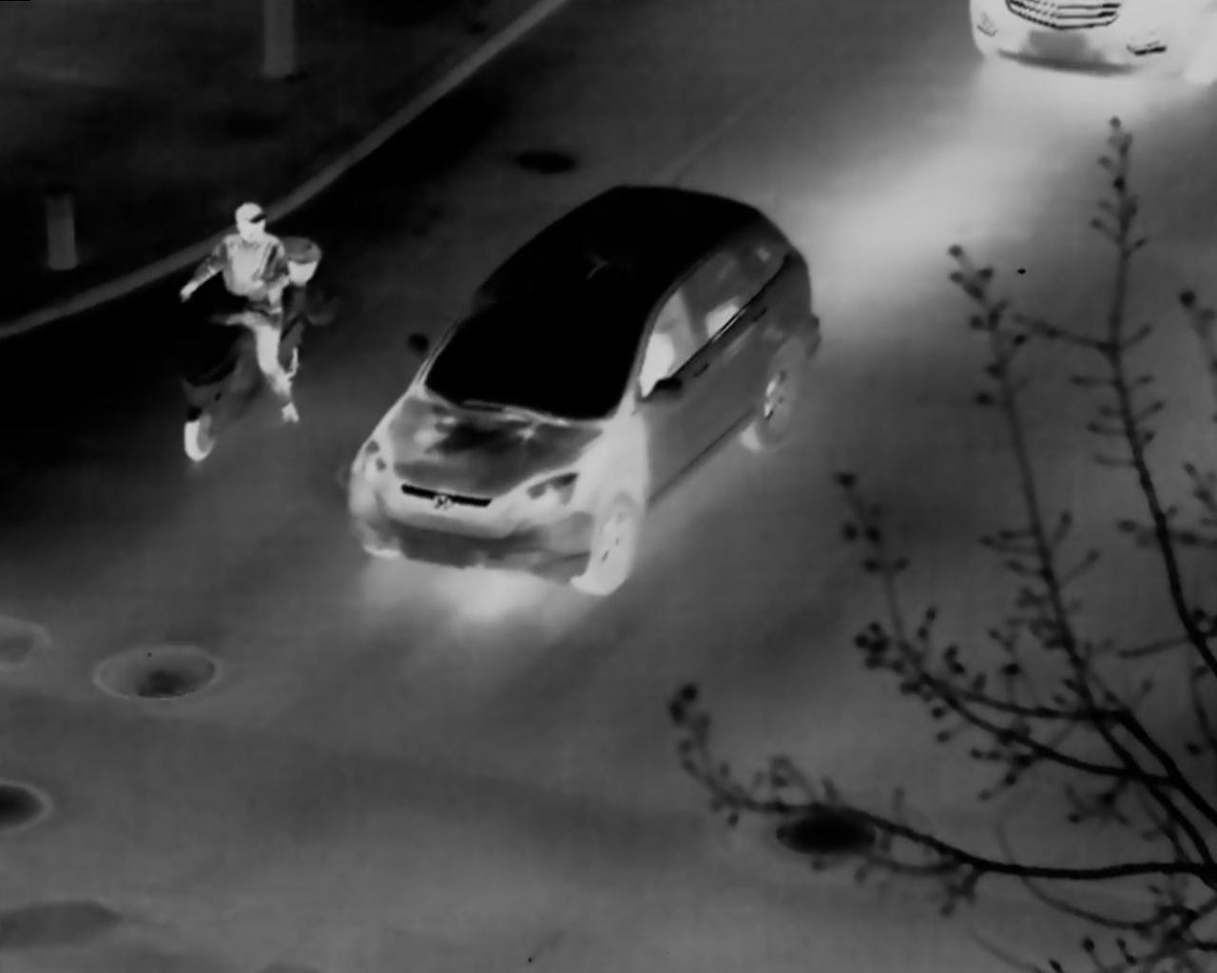person: (200, 201, 298, 393)
